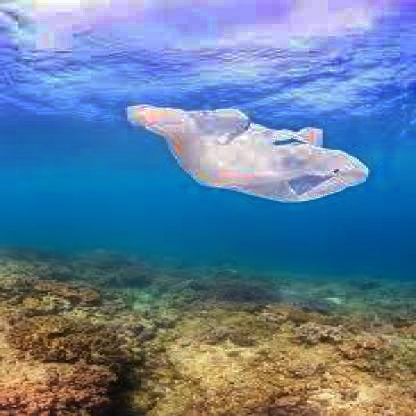pbag: (118, 102, 373, 204)
